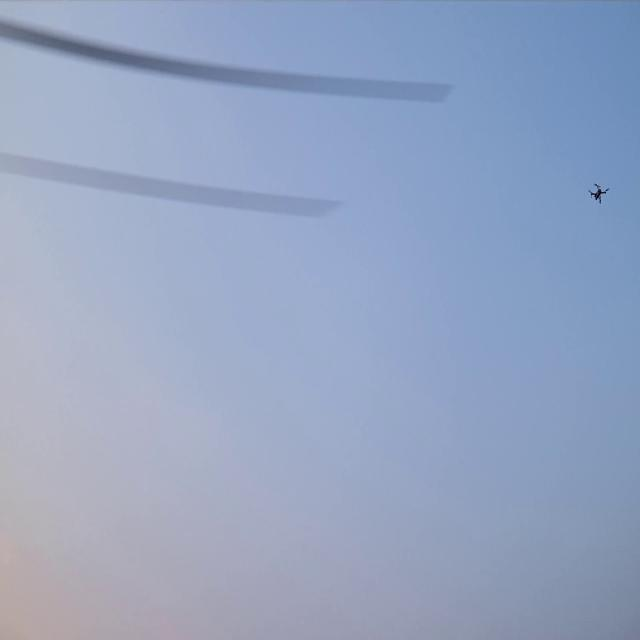UAV: (591, 184, 607, 203)
